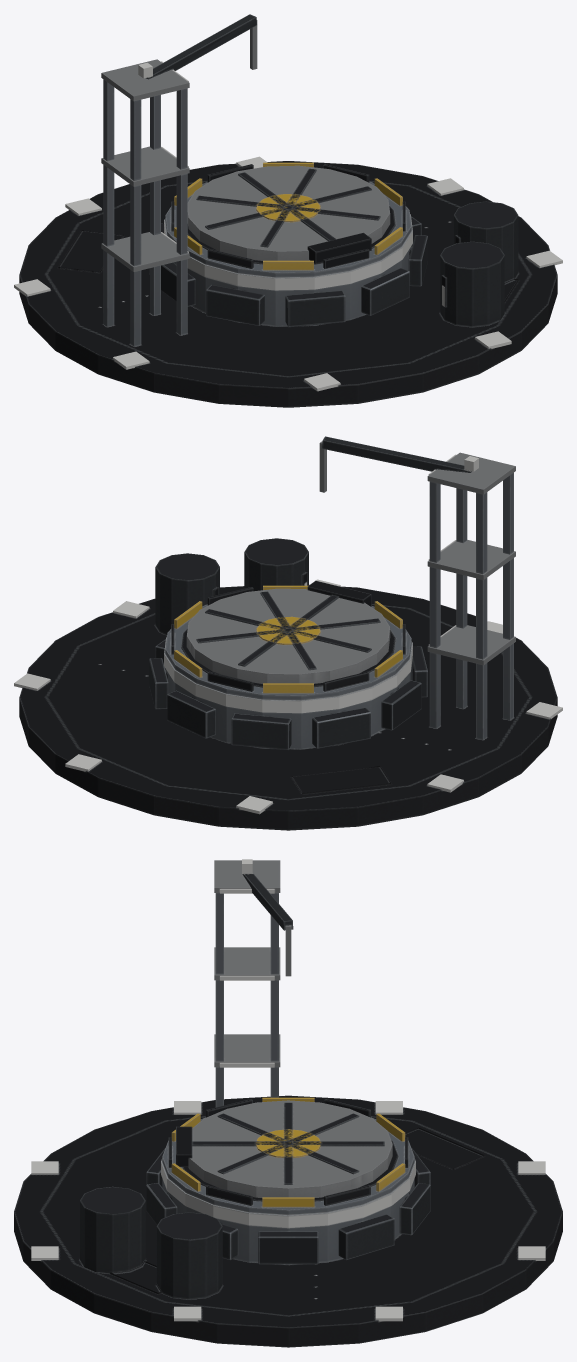
File: chs_ragnarok.fbx
The picture shows the model from 3 angles, top to bottom: view 1: azimuth 30°, elevation 25°; view 2: azimuth 150°, elevation 25°; view 3: azimuth 270°, elevation 25°; orthographic projection. The views are drawn at different scales.
Parts seen in each view (by area): view 1: base_bar, hatch_bar, base_glow_running_bar, base_glow_power_bar; view 2: base_bar, hatch_bar, base_glow_power_bar, base_glow_running_bar; view 3: base_bar, hatch_bar, base_glow_running_bar, base_glow_power_bar.
Part boxes in pixels (x1=…): base_bar: x1=19, y1=14, x2=557, y2=407; hatch_bar: x1=187, y1=165, x2=390, y2=264; base_glow_running_bar: x1=14, y1=61, x2=562, y2=391; base_glow_power_bar: x1=164, y1=221, x2=444, y2=306; base_bar: x1=19, y1=436, x2=557, y2=830; hatch_bar: x1=186, y1=580, x2=390, y2=683; base_glow_power_bar: x1=164, y1=582, x2=412, y2=713; base_glow_running_bar: x1=14, y1=454, x2=562, y2=814; base_bar: x1=14, y1=860, x2=562, y2=1347; hatch_bar: x1=176, y1=1100, x2=392, y2=1197; base_glow_running_bar: x1=31, y1=859, x2=545, y2=1321; base_glow_power_bar: x1=161, y1=1163, x2=415, y2=1228.
Bounding box in the file's own units: 2000 × 1377 × 2000.
Materials: 2 (2 with a texture image).
